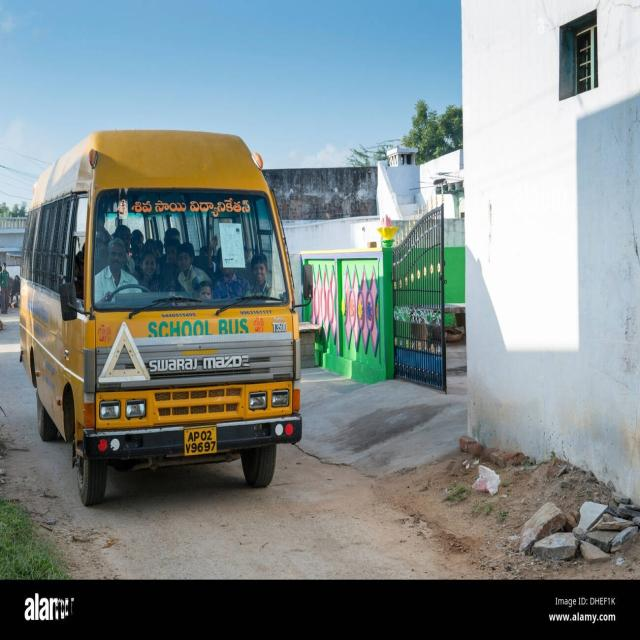bus: (20, 131, 301, 505)
